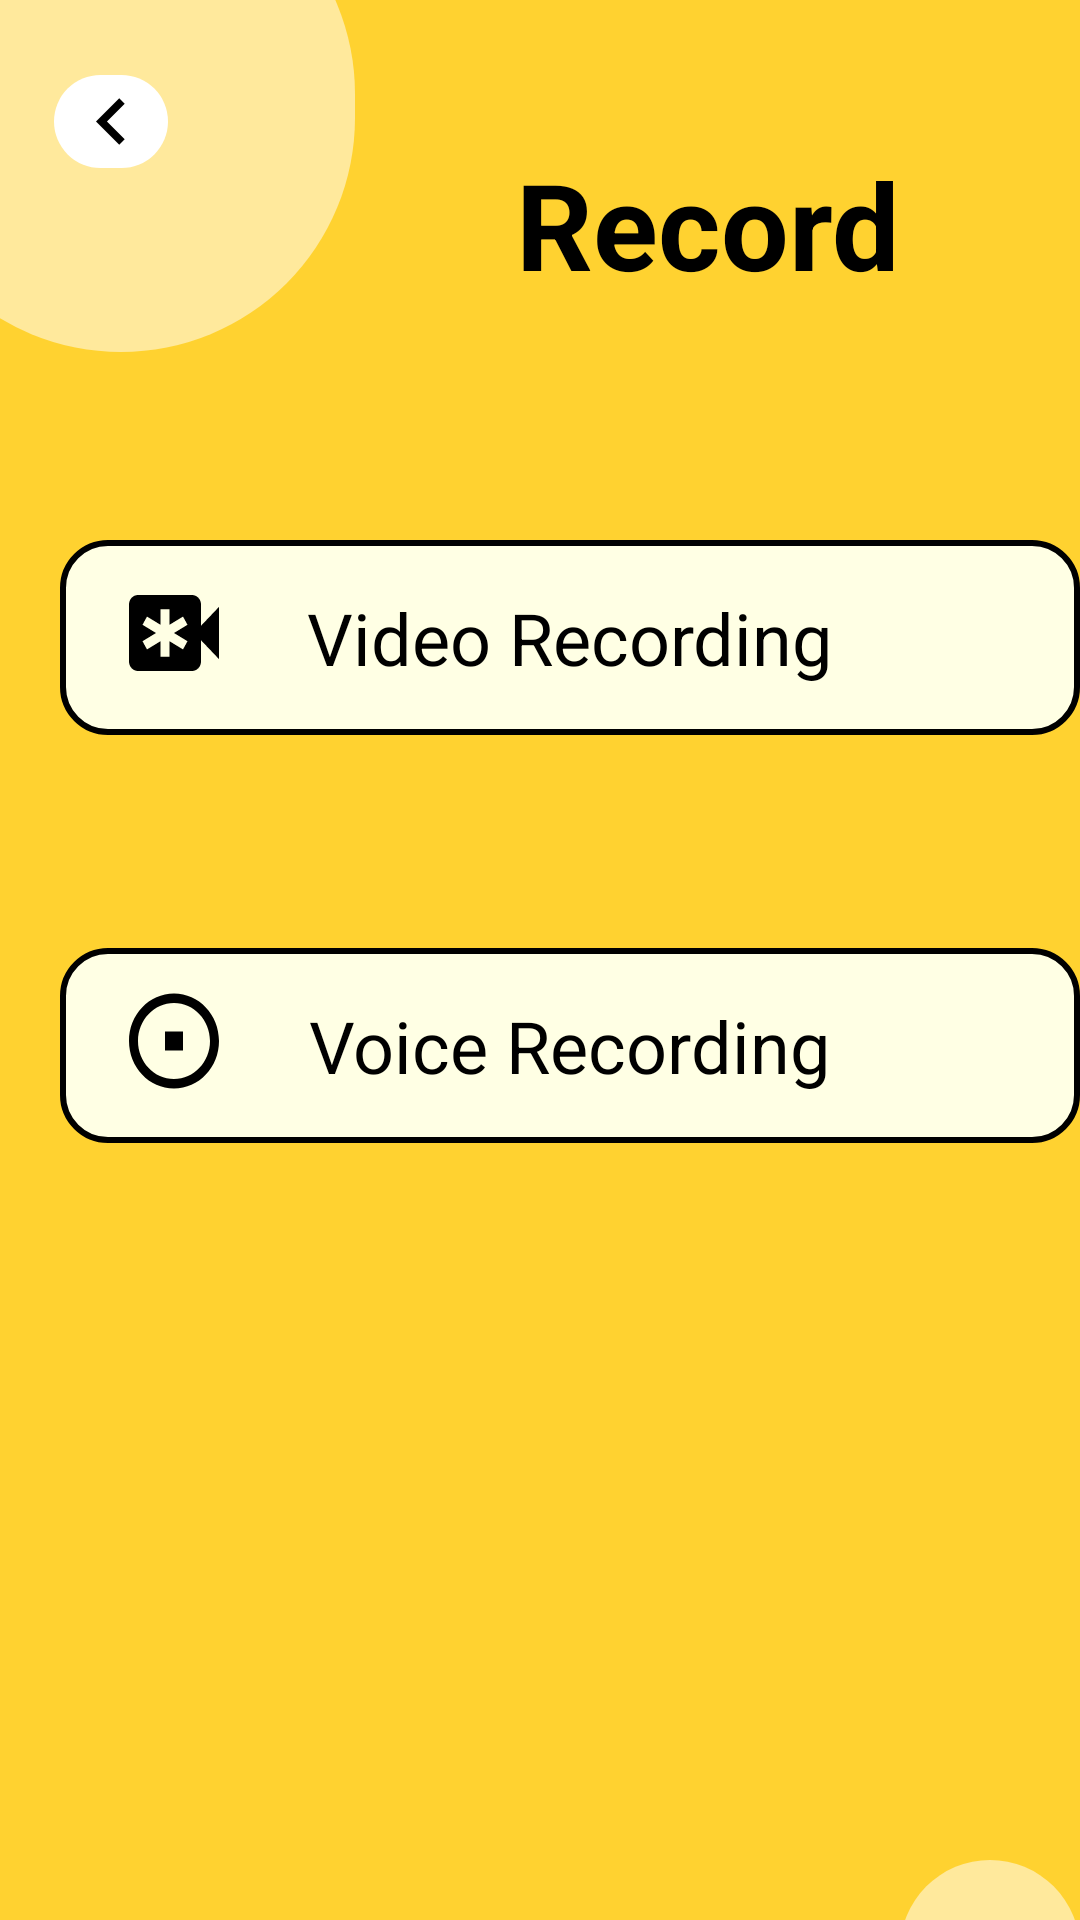

Named icons in this screenshot (1080 × 1920) and their centers, [x,y]:
arrow: [111,121]
